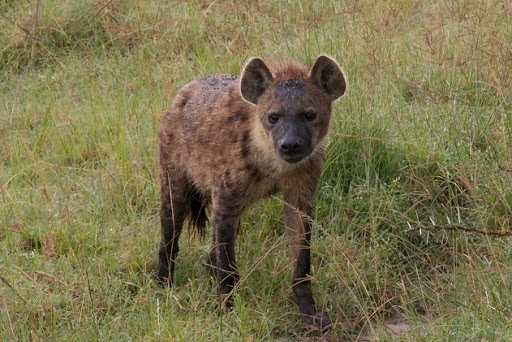hyna: (148, 49, 350, 335)
